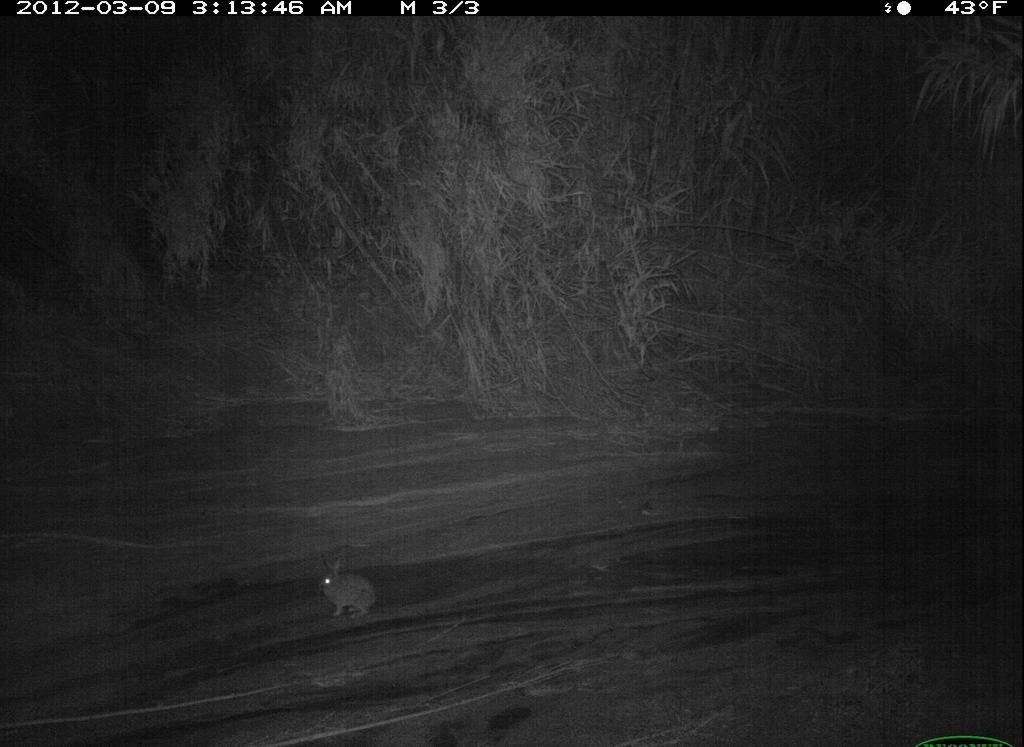rabbit: (301, 536, 392, 628)
